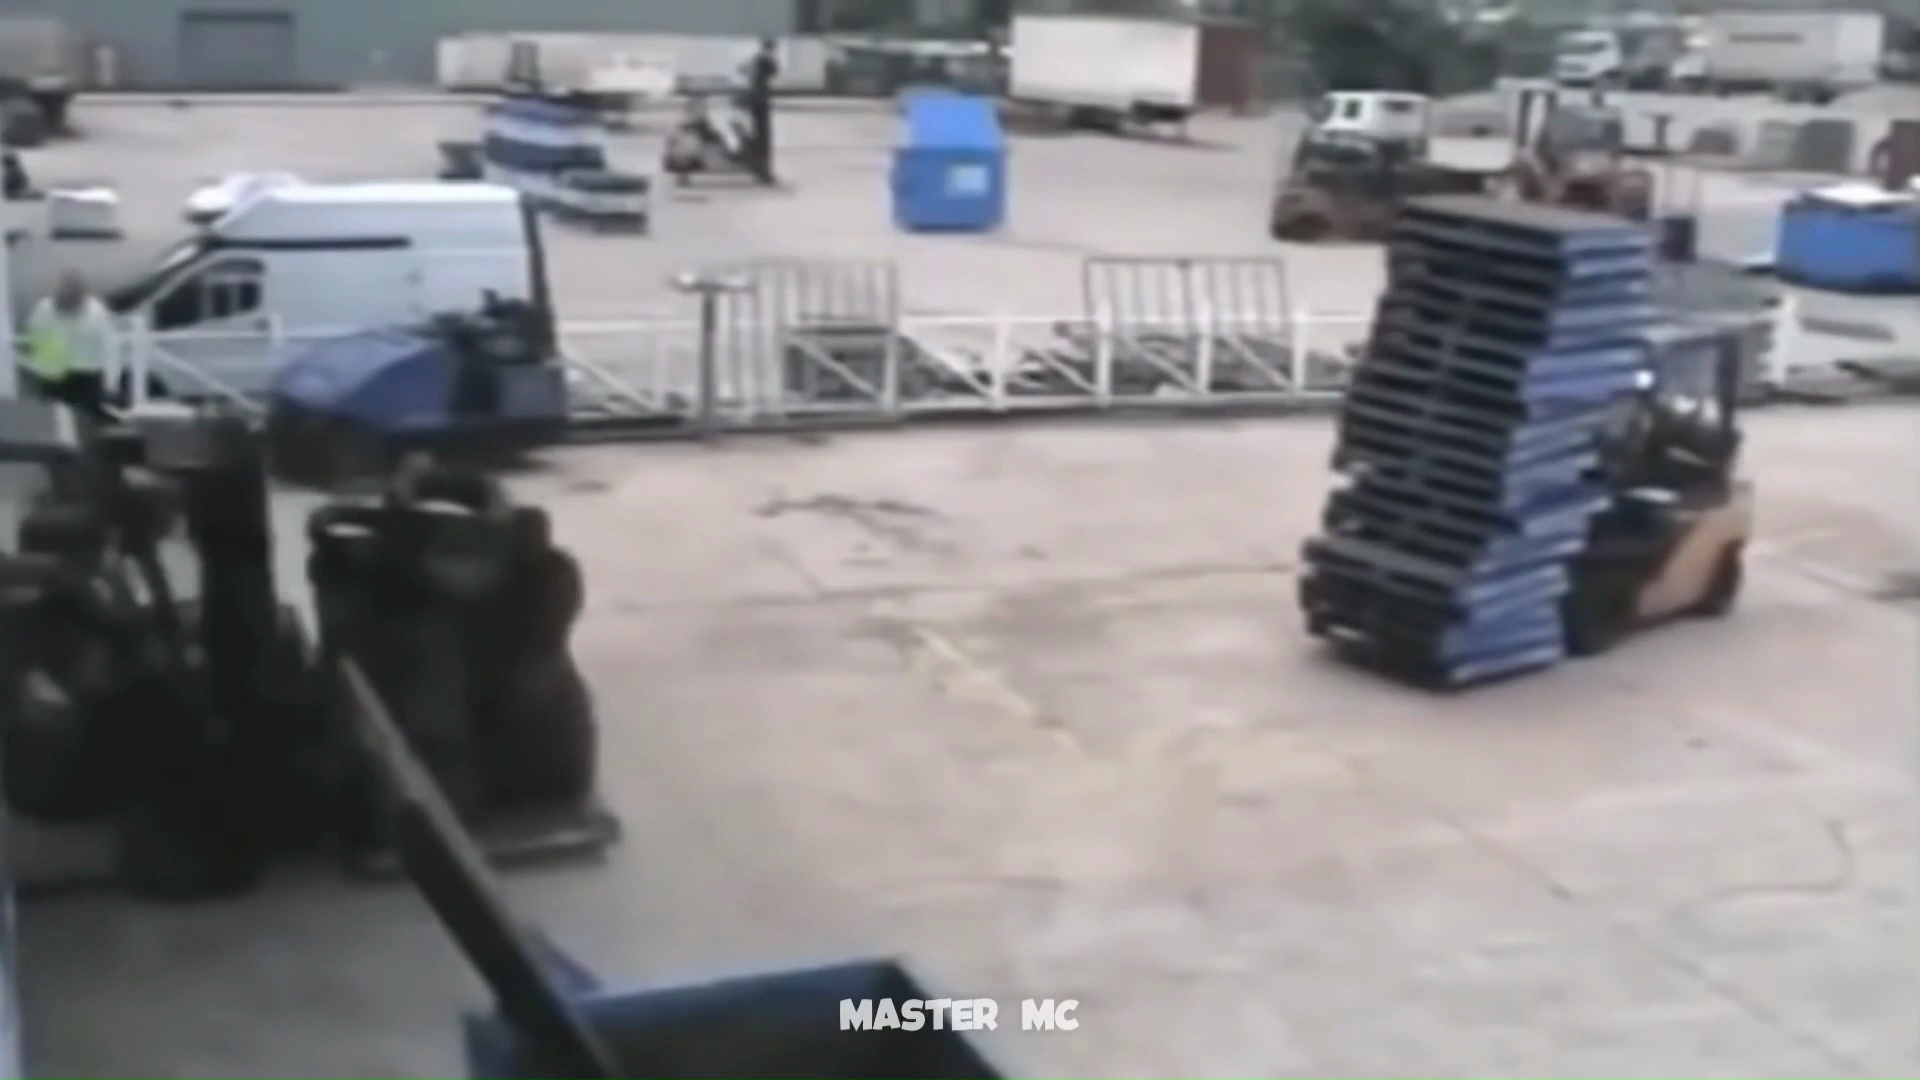forklift: (3, 396, 632, 884), (1291, 199, 1764, 698)
